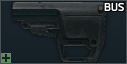MFT BUS Stock: (0, 0, 127, 64)
